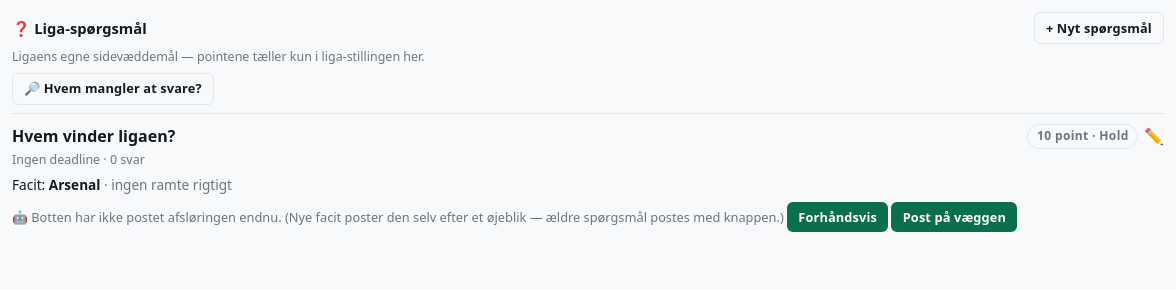
Scenario: LeagueQuestions — Runde-Bottens afsløring (ejer) › bottens nej-grund oversættes til dansk — og sektionen findes hverken for medlemmer eller på åbne spørgsmål
Click the button "Post på væggen" at (954, 217), box [892,202,1017,232]
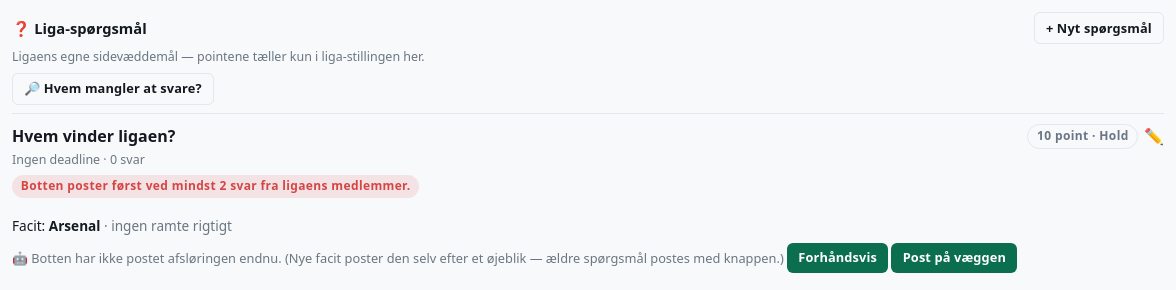
Expected: the text "Botten poster først ved mindst 2 svar fra ligaens medlemmer." is shown, [12,175,419,198]
